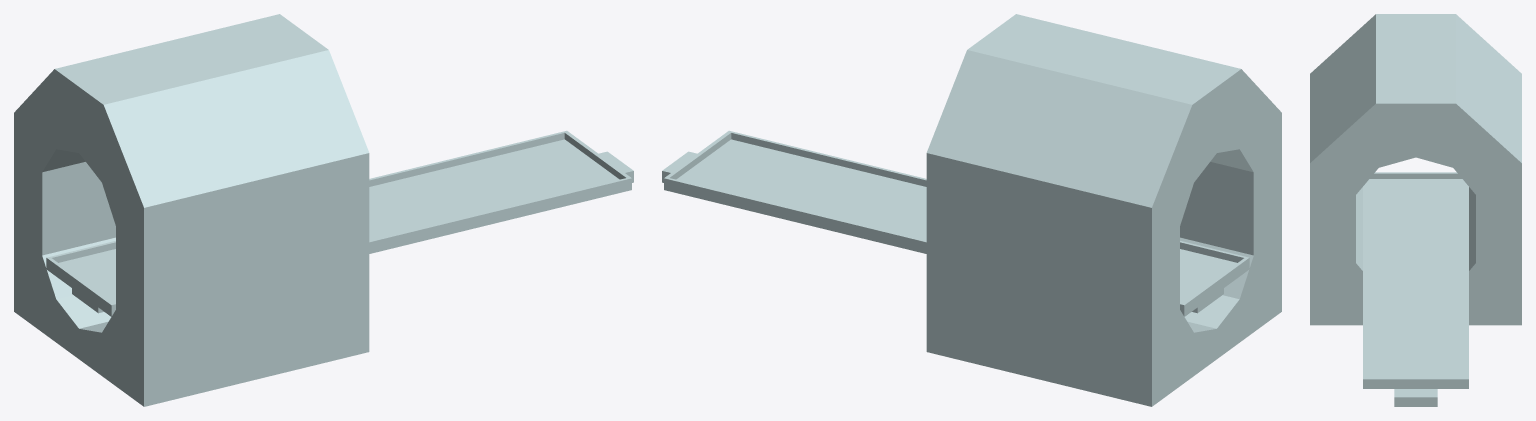
File: mrt.fbx
3 views of the same model, side by side, from view 1: azimuth 30°, elevation 25°; view 2: azimuth 150°, elevation 25°; view 3: azimuth 270°, elevation 25° (orthographic). The views are drawn at different scales.
Parts seen in each view (by area): view 1: mrt; view 2: mrt; view 3: mrt.
Part boxes in pixels (x1=…): mrt: x1=14, y1=14, x2=633, y2=406; mrt: x1=662, y1=14, x2=1281, y2=406; mrt: x1=1310, y1=14, x2=1521, y2=406.
Bounding box in the file's own units: 481 × 231 × 200.
